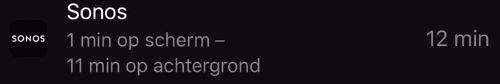name: (59, 2, 136, 22)
time: (65, 52, 124, 80), (65, 27, 115, 52)
